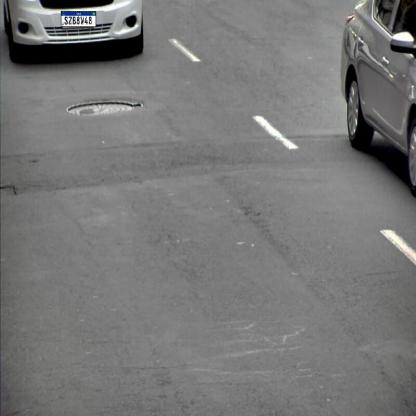PlacaM: (61, 11, 96, 27)
